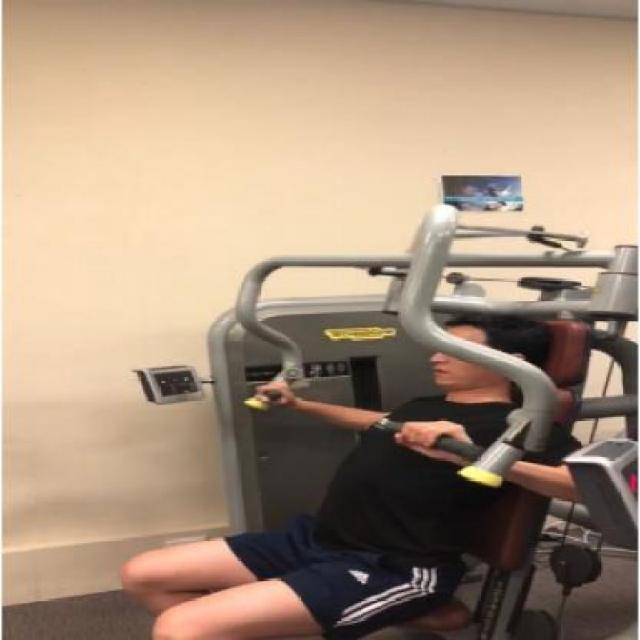Chest Press machine: (116, 197, 638, 640)
